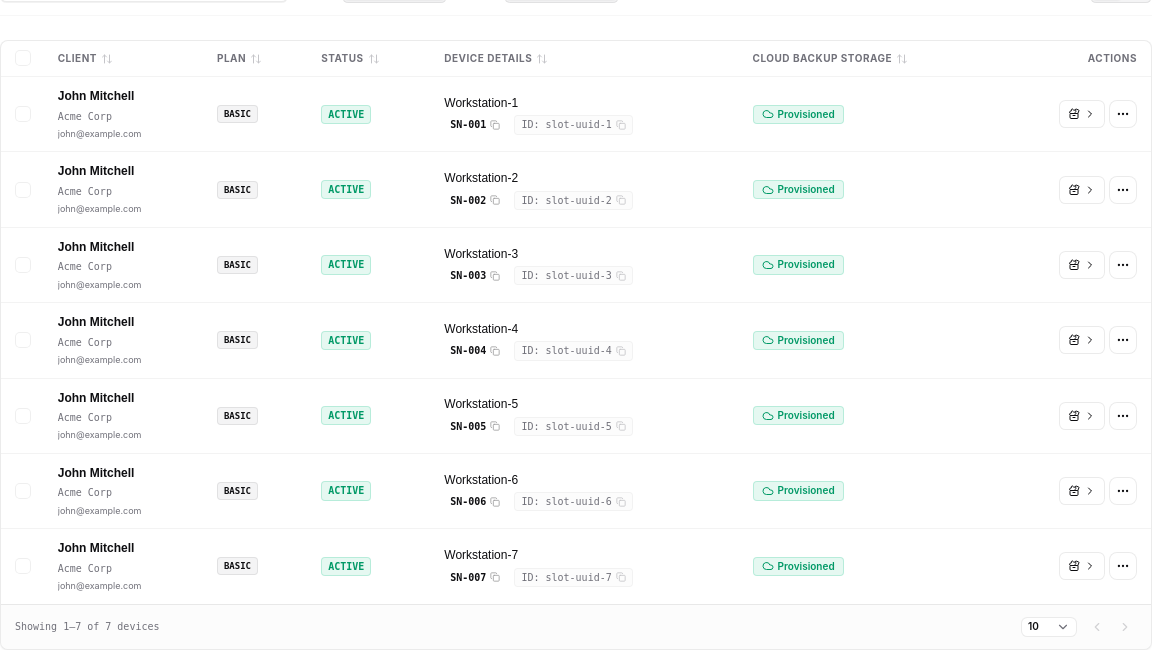
Scenario: DevicesPage › paginates devices correctly and supports limit changing
(page scrolled)
Expected: the text "Workstation-1" is shown, [444,94,518,113]
Expected: the text "Workstation-7" is shown, [444,546,518,566]
Click the dropdown with test id "pagination-limit-trigger": x=1049, y=627 [1021,617,1077,637]
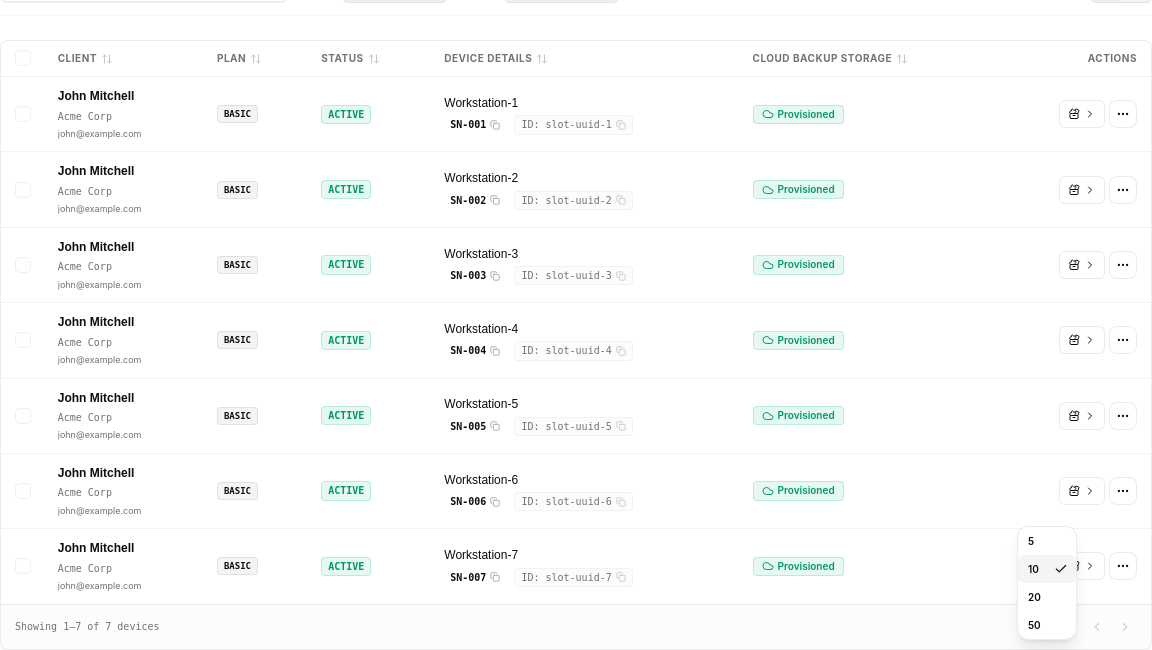
Click the option "5": x=1031, y=540 [1028,534,1034,546]
(page scrolled)
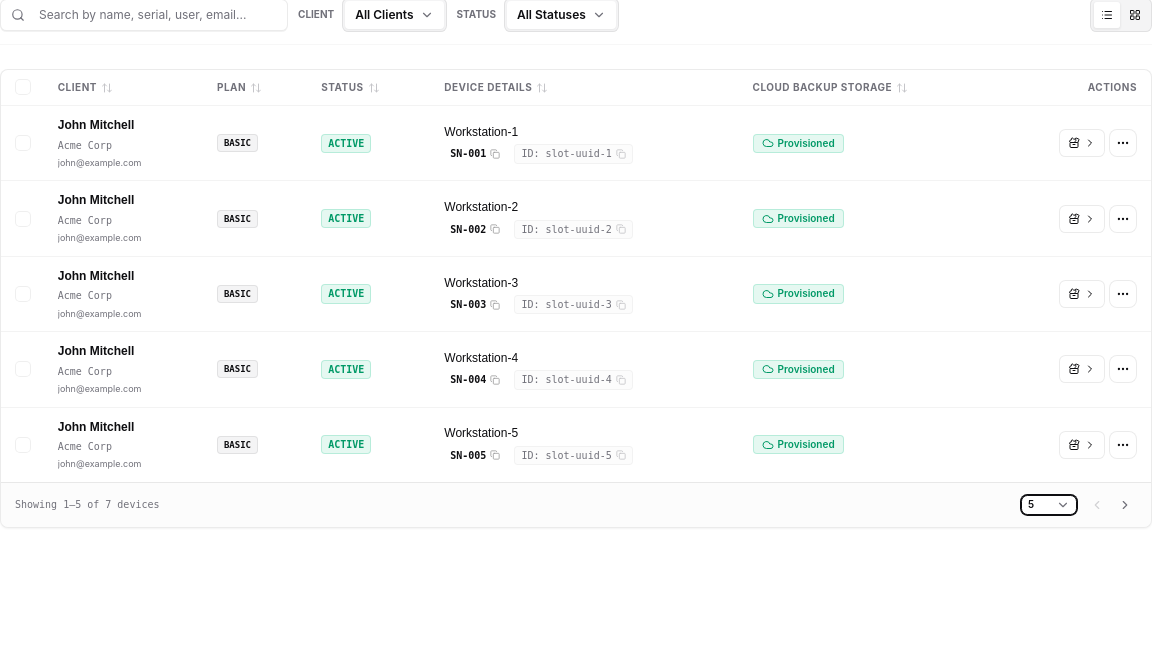
Expected: the text "Workstation-1" is shown, [444,123,518,142]
Expected: the text "Workstation-6" is gone
Expected: the text "Showing 1–5 of 7 devices" is shown, [15,497,160,512]
Click the button named "Next page": x=1125, y=505 [1113,493,1137,517]
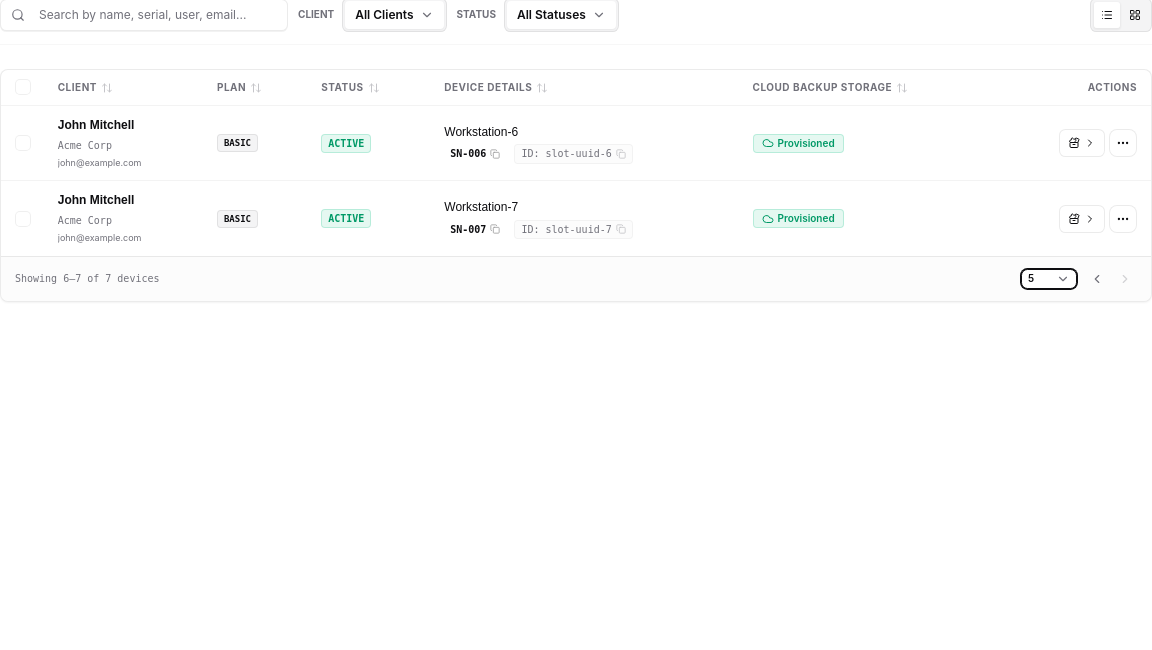
Expected: the text "Workstation-1" is gone
Expected: the text "Workstation-6" is shown, [444,123,518,142]
Expected: the text "Workstation-7" is shown, [444,198,518,218]
